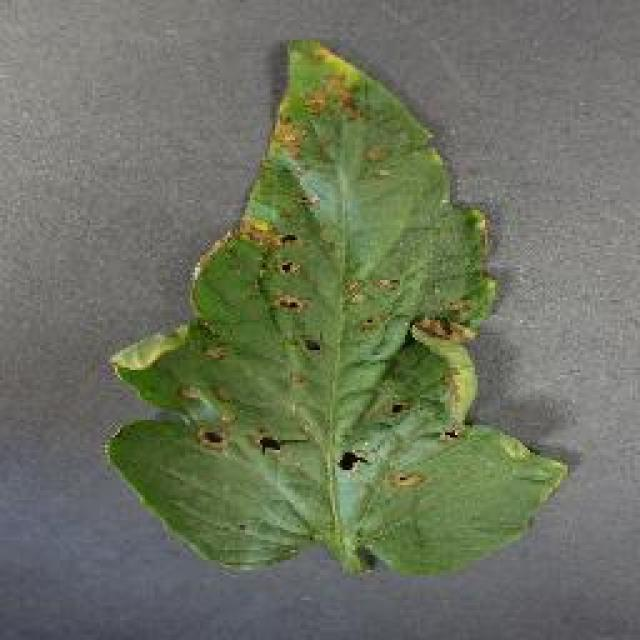Tomato bacterial spot leaf: (117, 47, 565, 585)
